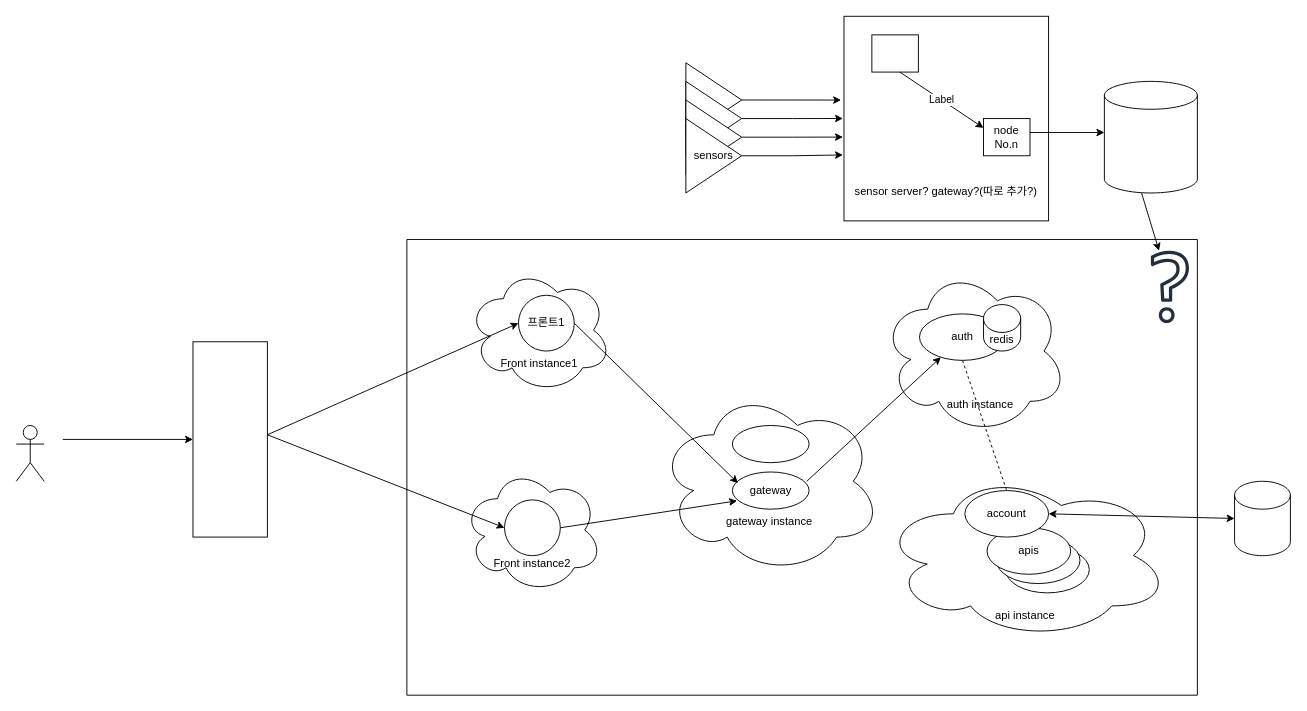
Image size: 1307x711. Some labels were removed from this diagram. Here are the shapes that lost their labels. From the top down, the centre of each, then its label:
At [894,53]: "node No.0".
At [1150,136]: "DB".
At [29,453]: "Actor".
At [229,439]: "로드 밸런서".
At [770,444]: "유레카".
At [532,527]: "프론트2".
At [1262,518]: "mysql".
